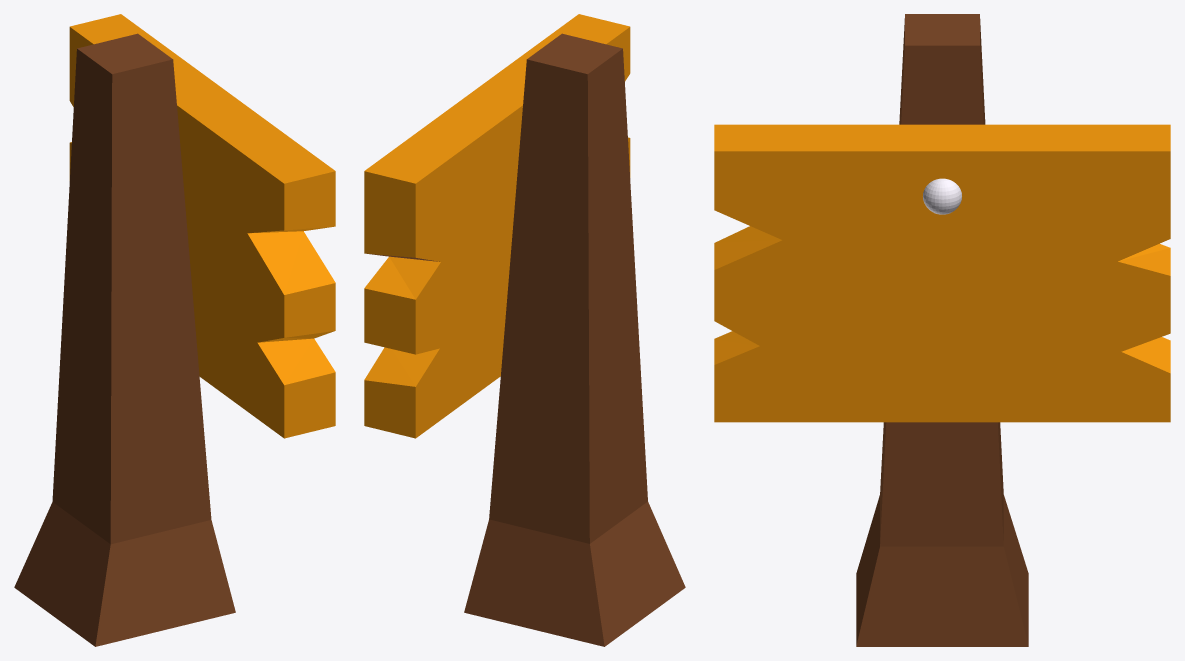
Rendered from PlacaNameless.gltf.
3 views of the same model, side by side, from view 1: azimuth 30°, elevation 25°; view 2: azimuth 150°, elevation 25°; view 3: azimuth 270°, elevation 25° (orthographic). The views are drawn at different scales.
Parts seen in each view (by area): view 1: Prego.003; view 2: Prego.003; view 3: Prego.003.
Boxes of the visible parts, bbox=[...] form: Prego.003: bbox=[14, 14, 335, 646]; Prego.003: bbox=[364, 14, 685, 646]; Prego.003: bbox=[714, 14, 1170, 646].
Bounding box in the file's own units: 1.58 × 4.42 × 3.15.
